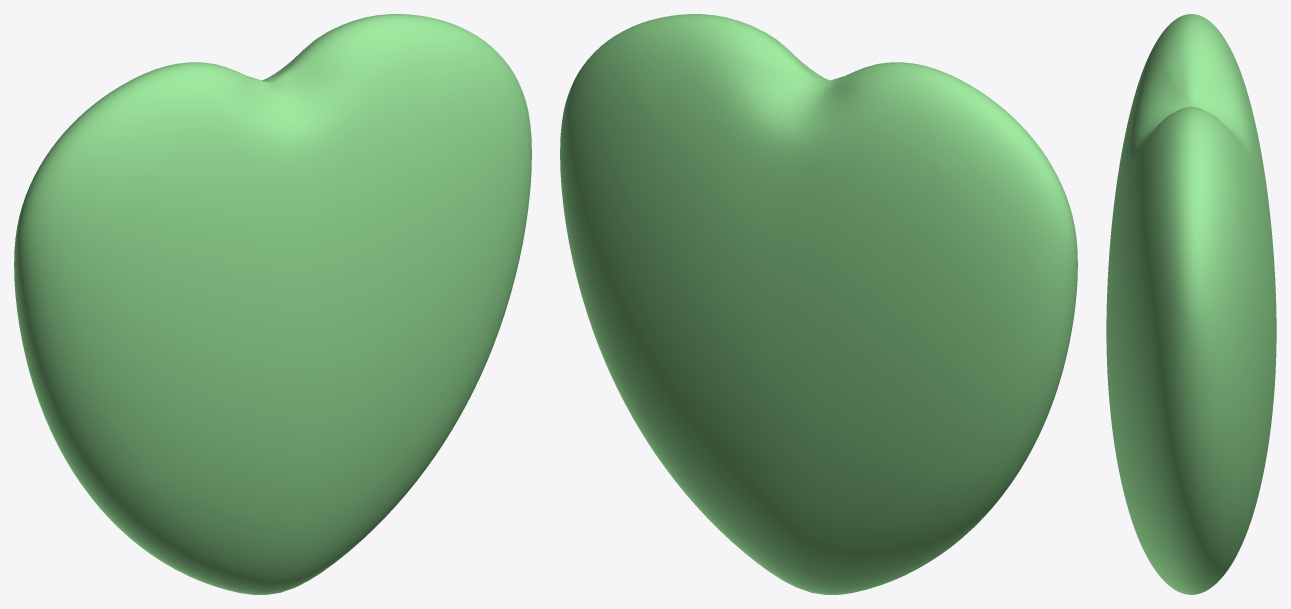
Rendered from green.glb.
The picture shows the model from 3 angles, left to right: view 1: azimuth 30°, elevation 25°; view 2: azimuth 150°, elevation 25°; view 3: azimuth 270°, elevation 25°; orthographic projection. The views are drawn at different scales.
Visible parts, largest first — view 1: Cube; view 2: Cube; view 3: Cube.
Boxes of the visible parts, x1,y1,x2,y2 form: Cube: (14, 14, 531, 594); Cube: (560, 14, 1077, 594); Cube: (1106, 14, 1276, 594).
Size of the model in its own units: 10.65 by 10.93 by 3.29.
